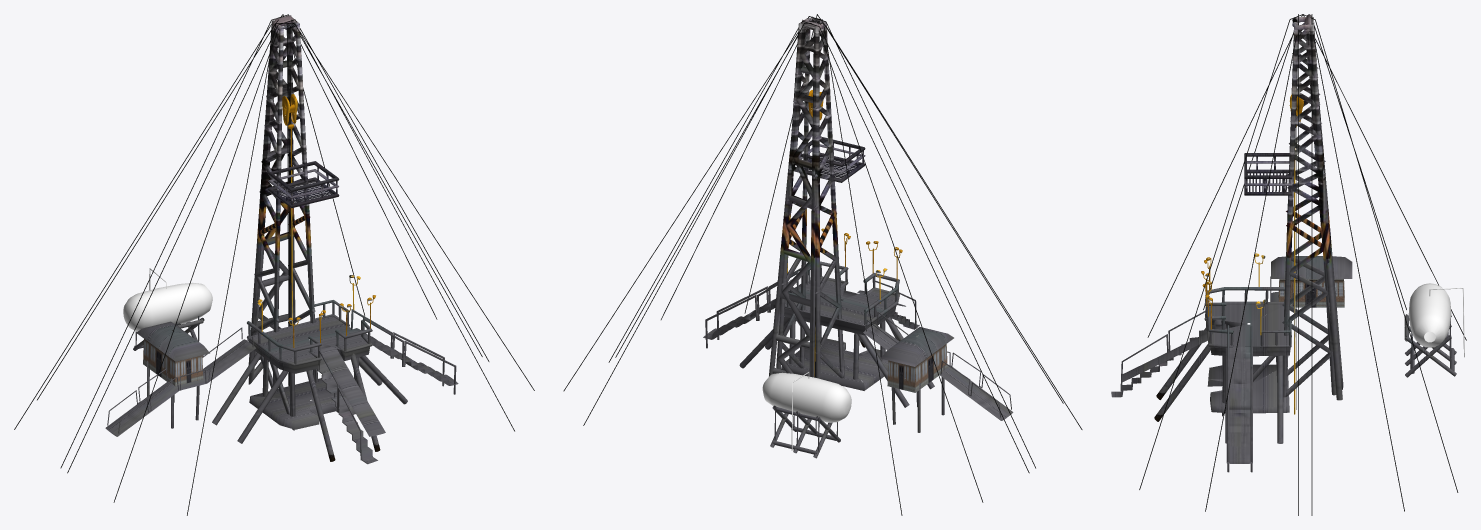
The model's file is Oil Platform.obj.
3 renders of one model, left to right at view 1: azimuth 30°, elevation 25°; view 2: azimuth 150°, elevation 25°; view 3: azimuth 270°, elevation 25°, orthographic. The views are drawn at different scales.
Parts seen in each view (by area): view 1: oil platform loaded; view 2: oil platform loaded; view 3: oil platform loaded.
Boxes of the visible parts, <box> form: oil platform loaded: <box>14,14,534,515</box>; oil platform loaded: <box>563,14,1082,515</box>; oil platform loaded: <box>1111,14,1466,515</box>.
Size of the model in its own units: 432 by 390 by 309.
